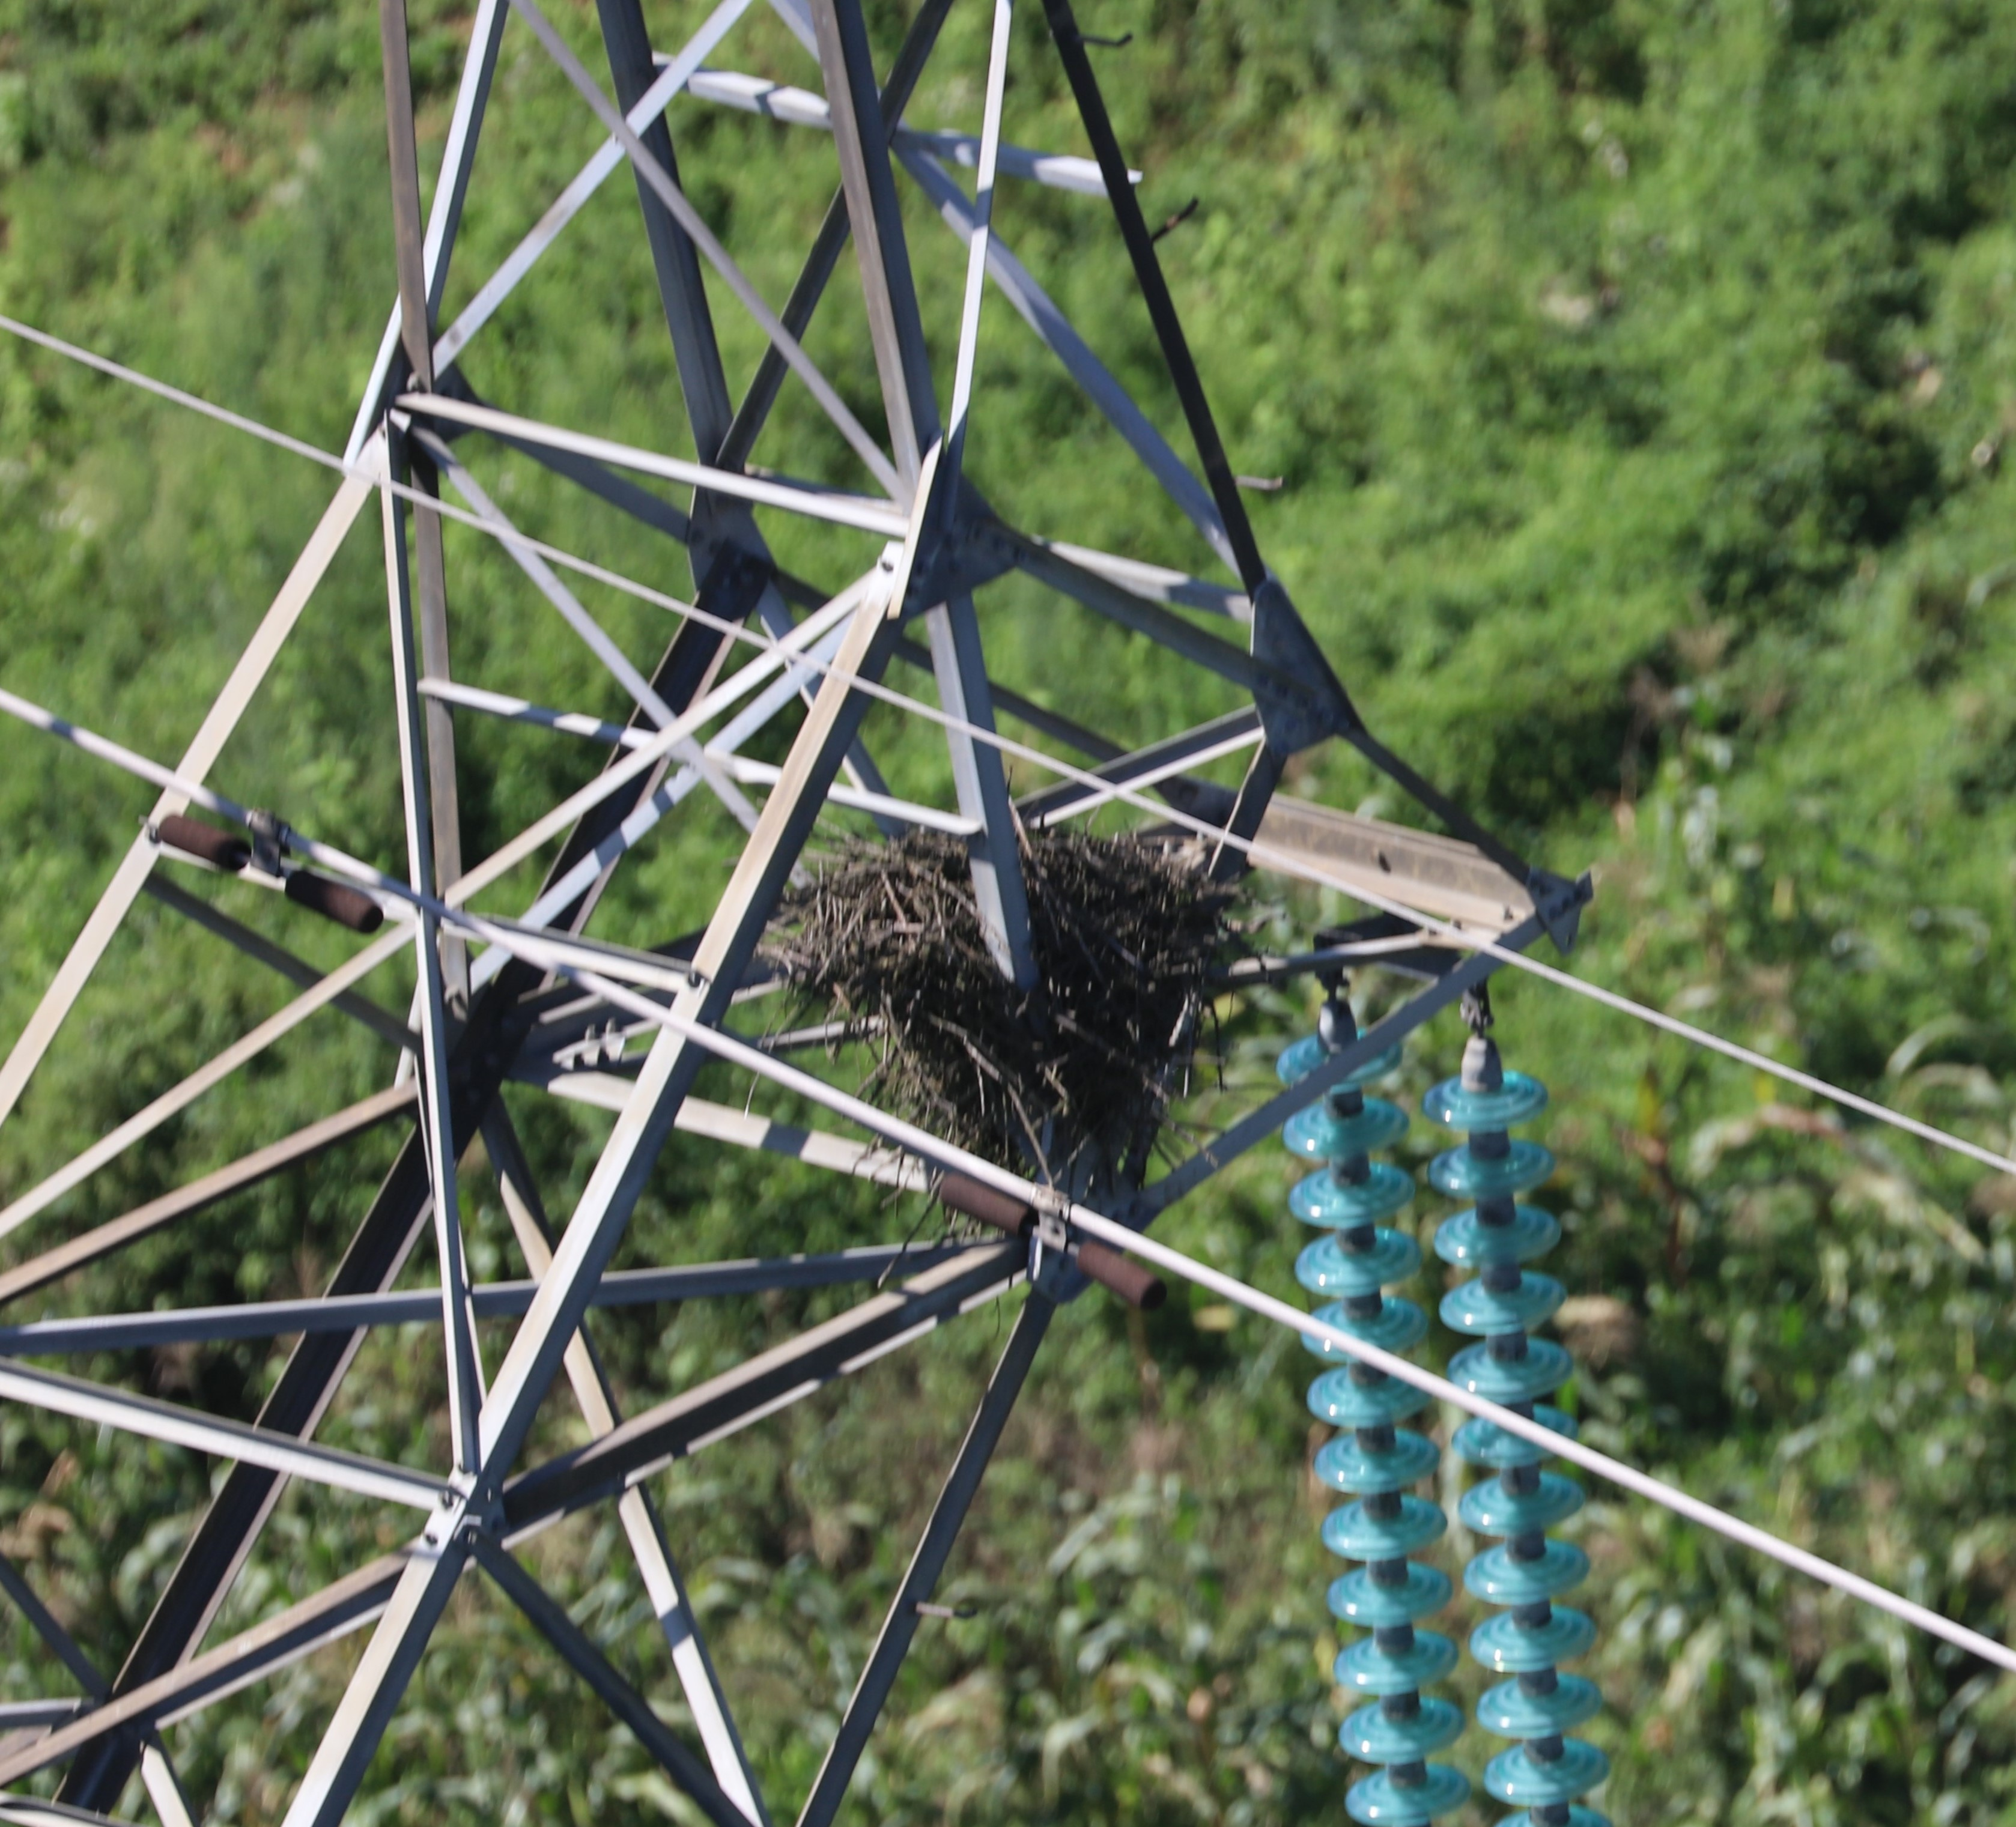niaowo: (766, 783, 1254, 1204)
